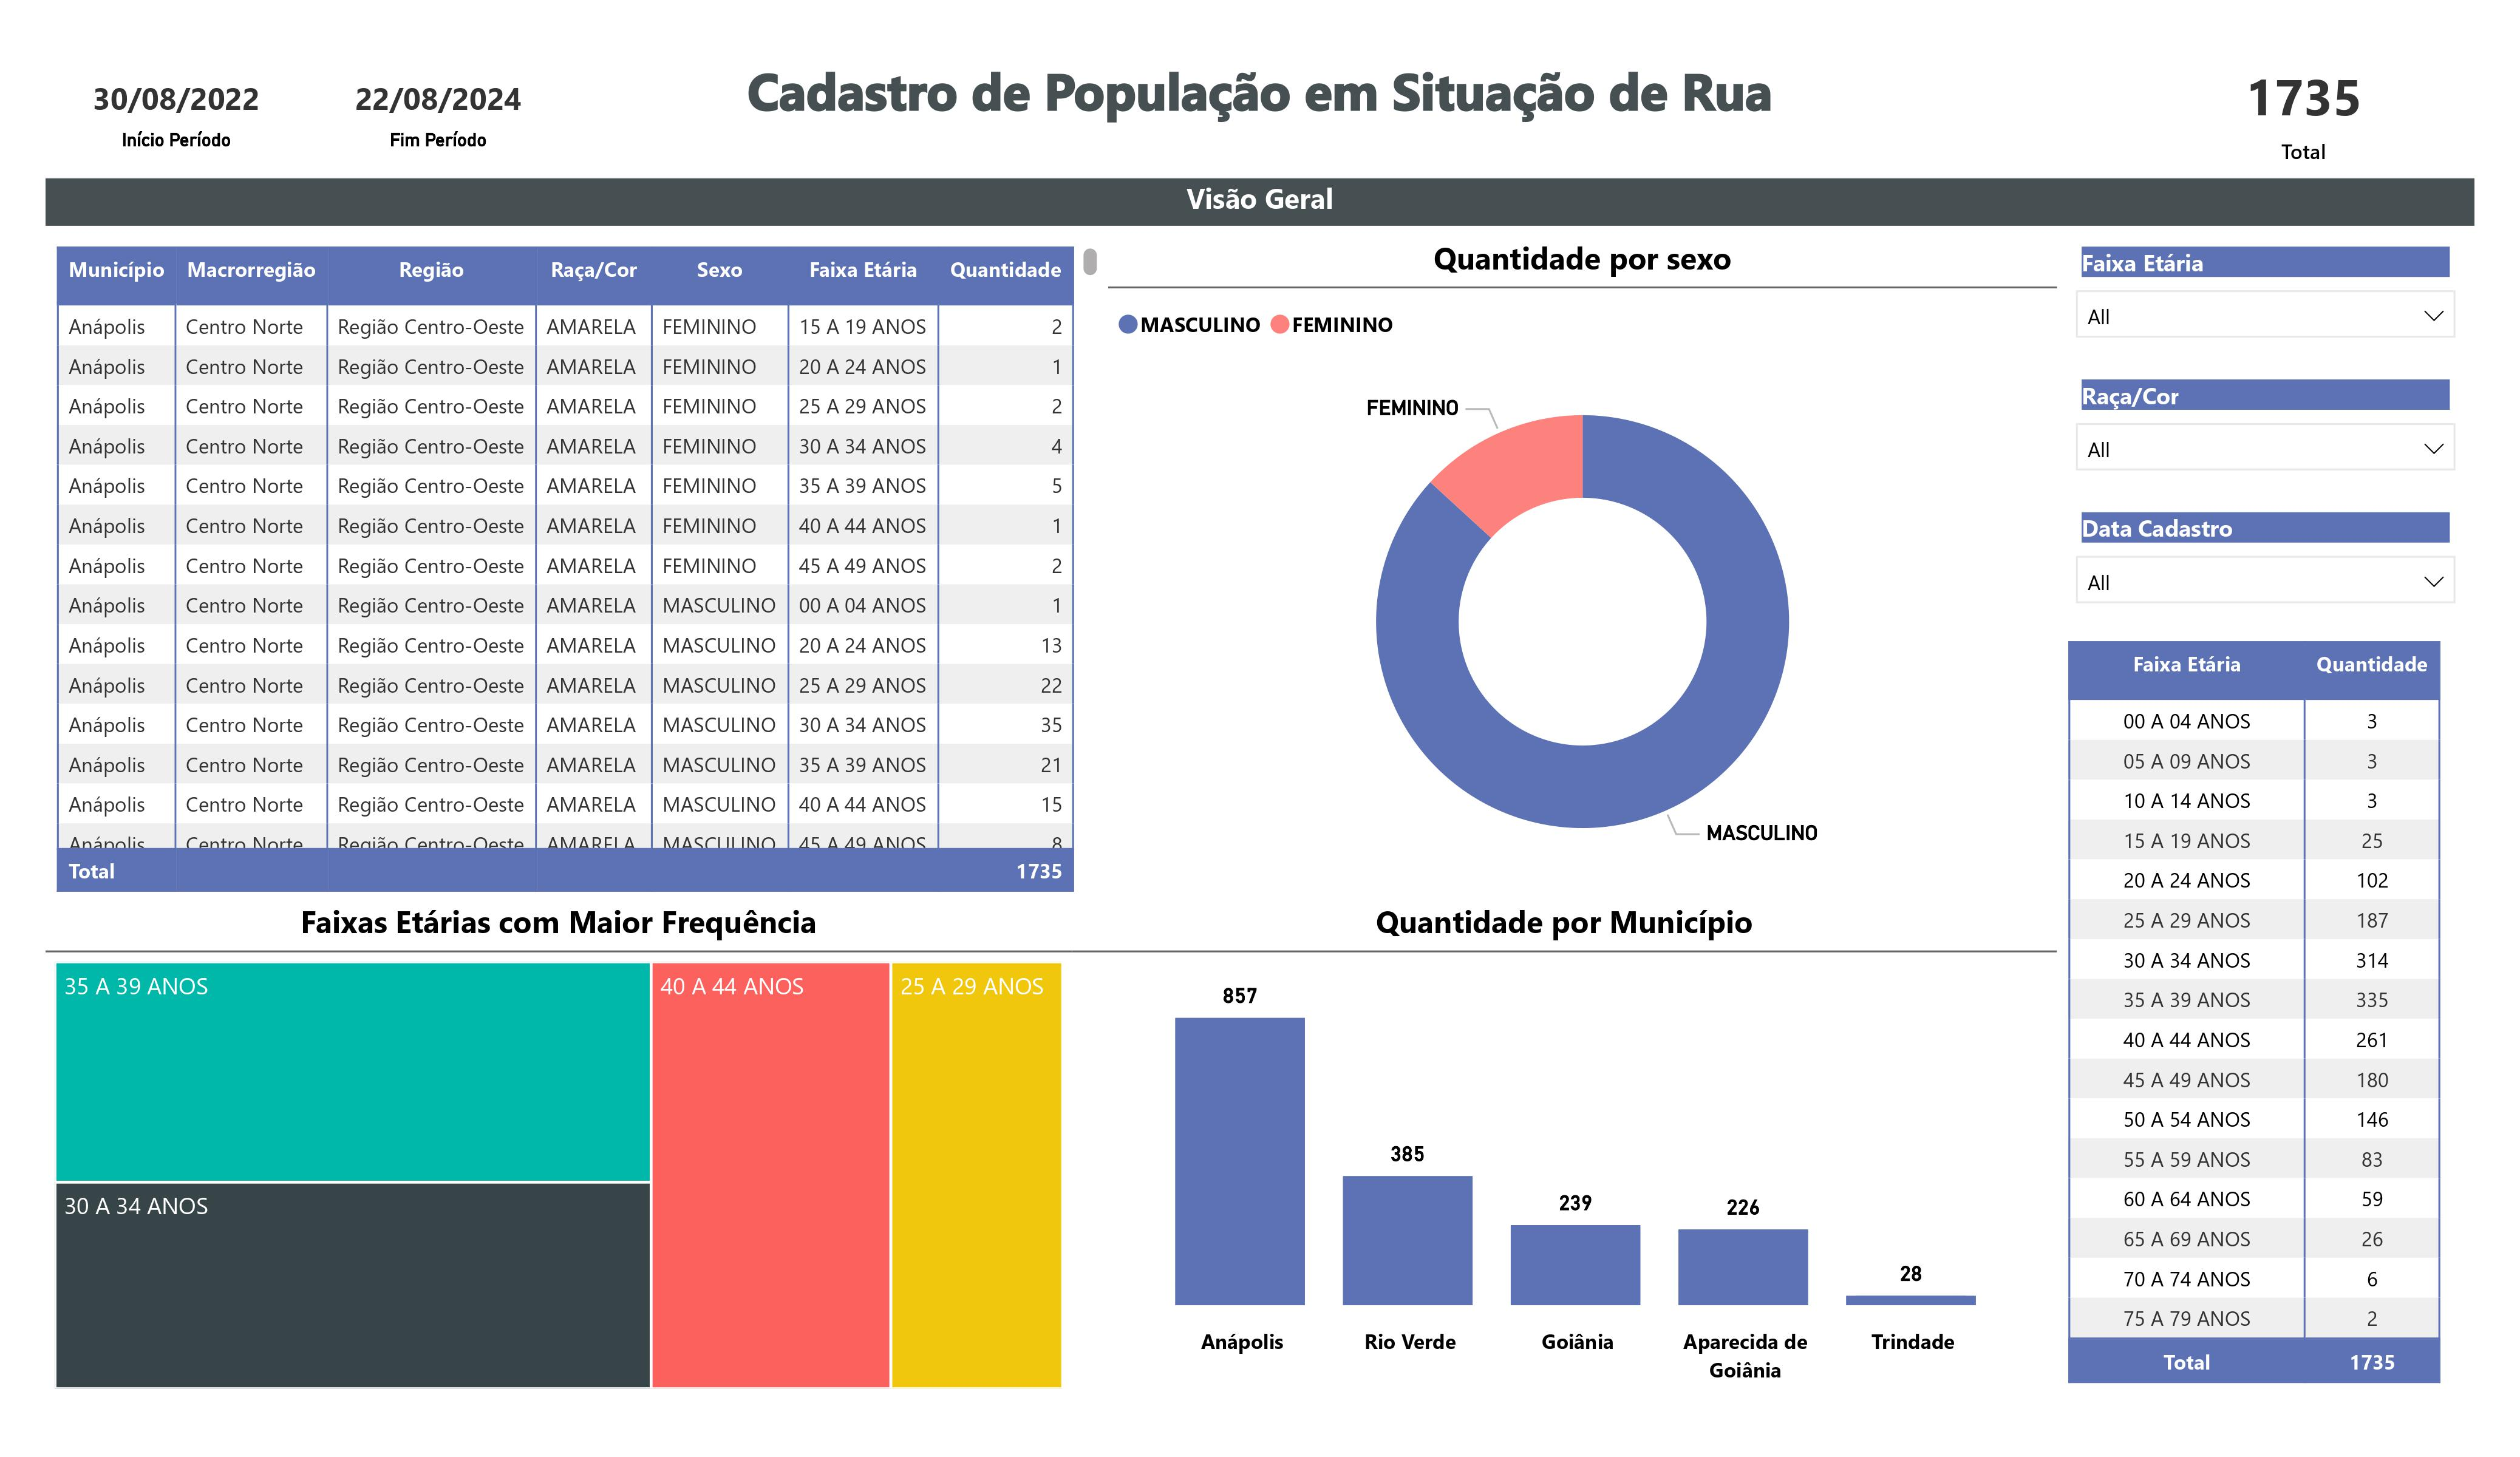

Layout of this report page (visuals, bound fields, positions):
{"tool":"powerbi","page":{"name":"Home","canvas":[1280,720],"ordinal":0},"visuals":[{"type":"shape","box":[0,0,1280.4,70.9],"z":0},{"type":"textbox","box":[0,0,1280.4,92.2],"z":1000},{"type":"shape","title":"Visão Geral","box":[0,70,1280,650],"z":2000},{"type":"tableEx","fields":{"Values":["popSitRua.municipio","popSitRua.macrorregiao","popSitRua.regiao","popSitRua.raca_cor","popSitRua.sexo","popSitRua.faixa_etaria","CountNonNull(popSitRua.codigo_ibge)"]},"box":[0,101.1,559.5,350.2],"z":3000},{"type":"treemap","title":"Faixas Etárias com Maior Frequência","fields":{"Values":["CountNonNull(popSitRua.codigo_ibge)"],"Group":["popSitRua.faixa_etaria"]},"box":[0,451,541,261],"z":4000},{"type":"donutChart","title":"Quantidade por sexo","fields":{"Category":["popSitRua.sexo"],"Y":["CountNonNull(popSitRua.sexo)"]},"box":[559.5,101.1,500.1,350.2],"z":5000},{"type":"clusteredColumnChart","title":"Quantidade por Município","fields":{"Category":["popSitRua.municipio"],"Y":["CountNonNull(popSitRua.codigo_ibge)"]},"box":[541,451,519,261],"z":6000},{"type":"slicer","fields":{"Values":["popSitRua.faixa_etaria"]},"box":[1059.6,101.1,220.8,70],"z":7000},{"type":"card","fields":{"Values":["CountNonNull(popSitRua.codigo_ibge)"]},"box":[1100.4,0,180,70],"z":8000},{"type":"tableEx","fields":{"Values":["popSitRua.faixa_etaria","CountNonNull(popSitRua.codigo_ibge)"]},"box":[1059.6,308.6,211,403.4],"z":9000},{"type":"card","fields":{"Values":["Max(popSitRua.dataFormatada)"]},"box":[138.1,0,138.1,71],"z":10000},{"type":"card","fields":{"Values":["Min(popSitRua.dataFormatada)"]},"box":[0,0,138.1,71],"z":11000},{"type":"slicer","fields":{"Values":["popSitRua.raca_cor"]},"box":[1059.6,171.1,220.8,70],"z":12000},{"type":"slicer","fields":{"Values":["popSitRua.dataFormatada"]},"box":[1059.6,241.2,220.8,70],"z":12001}]}

Visuals, with their boxes on the page's 1280x720 design canvas (x1, y1, x2, y2). These are canvas units, not pixel positions in the 2520x1457 screenshot, which may show the page scaled, cropped or inside an application window:
shape: left=0, top=0, right=1280, bottom=71
textbox: left=0, top=0, right=1280, bottom=92
"Visão Geral" shape: left=0, top=70, right=1280, bottom=720
tableEx - popSitRua.municipio x popSitRua.macrorregiao: left=0, top=101, right=560, bottom=451
"Faixas Etárias com Maior Frequência" treemap: left=0, top=451, right=541, bottom=712
"Quantidade por sexo" donutChart: left=560, top=101, right=1060, bottom=451
"Quantidade por Município" clusteredColumnChart: left=541, top=451, right=1060, bottom=712
slicer - popSitRua.faixa_etaria: left=1060, top=101, right=1280, bottom=171
card - CountNonNull(popSitRua.codigo_ibge): left=1100, top=0, right=1280, bottom=70
tableEx - popSitRua.faixa_etaria x CountNonNull(popSitRua.codigo_ibge): left=1060, top=309, right=1271, bottom=712
card - Max(popSitRua.dataFormatada): left=138, top=0, right=276, bottom=71
card - Min(popSitRua.dataFormatada): left=0, top=0, right=138, bottom=71
slicer - popSitRua.raca_cor: left=1060, top=171, right=1280, bottom=241
slicer - popSitRua.dataFormatada: left=1060, top=241, right=1280, bottom=311
